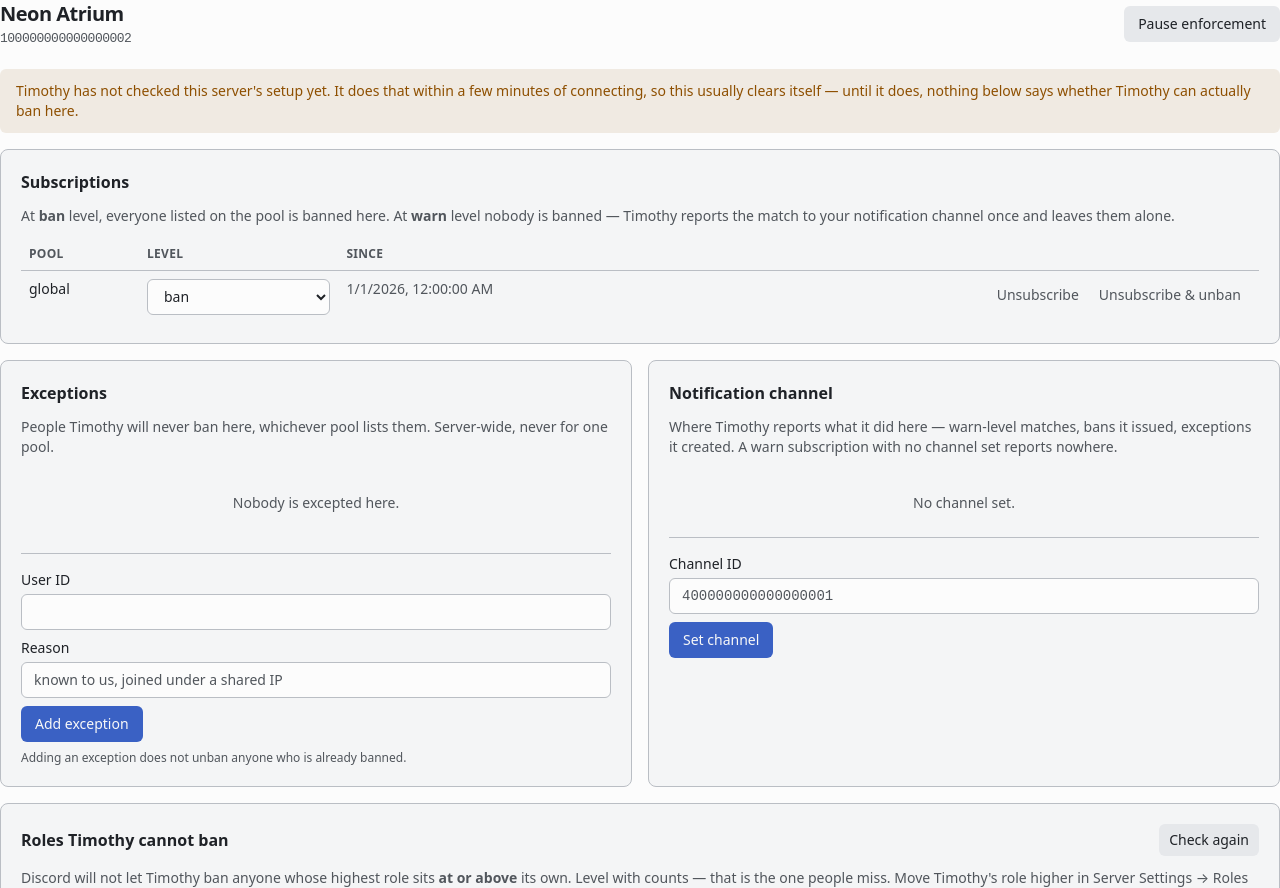
Scenario: a server's page › warns that unsubscribing with a revert reaches people this screen never showed
expect the text "global" is shown: met, box [21,270,139,323]
Click the button "Unsubscribe & unban" at (1170, 295), box [1089,279,1251,311]
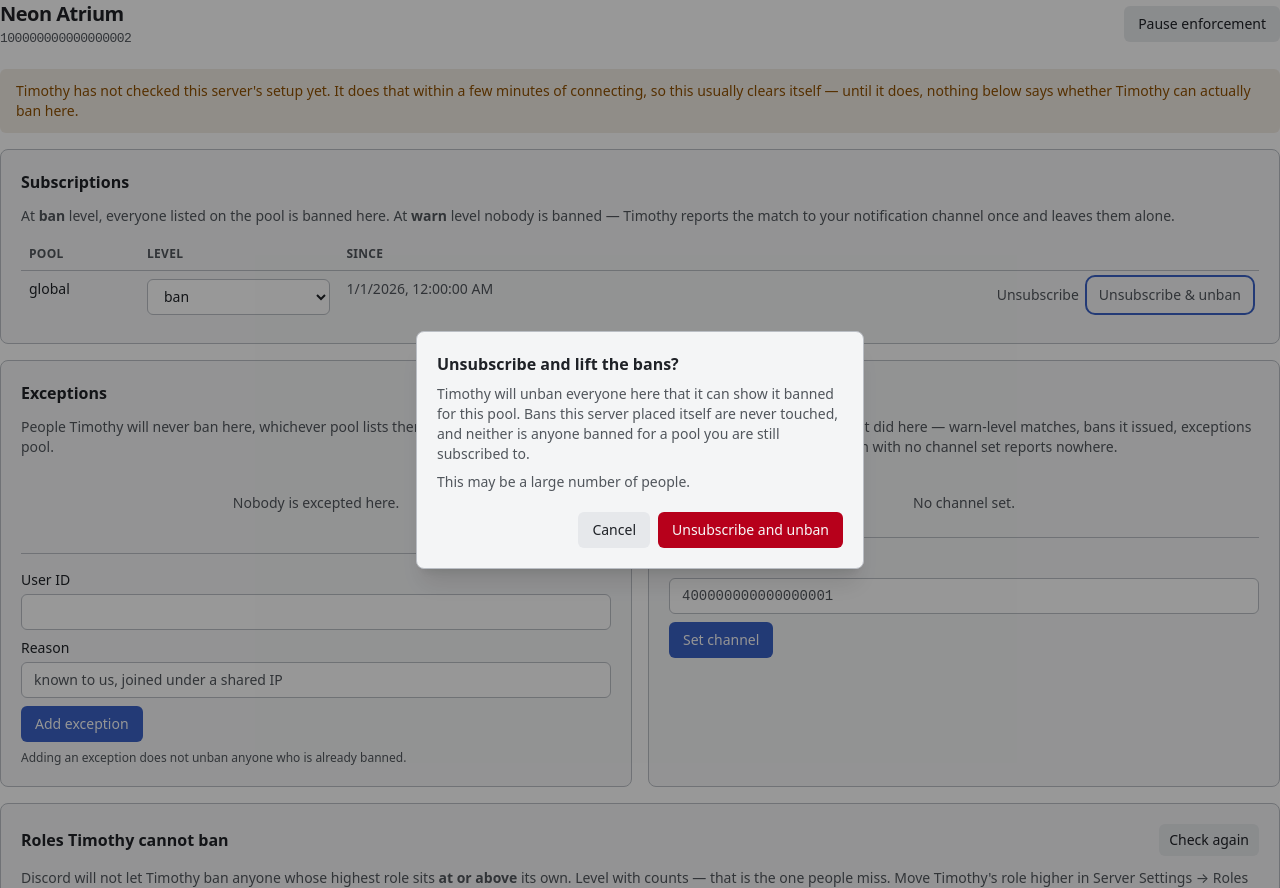
expect the dialog shows "may be a large number of people": met, box [437,472,690,491]
expect the dialog shows "Bans this server placed itself are never touched": met, box [437,384,838,463]
